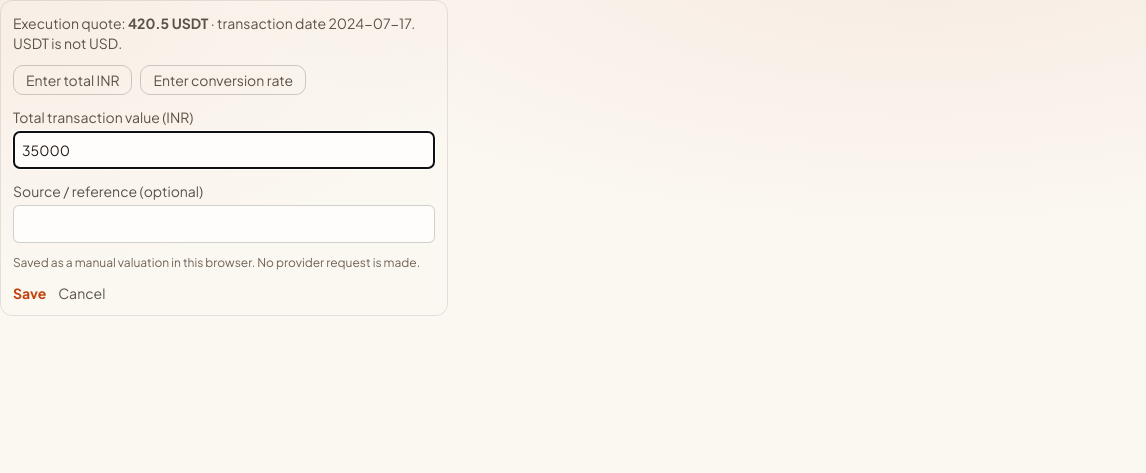
Scenario: rejects zero, negative, blank, infinite rates and impossible dates; preserves an existing INR total until valid save
Click the button "Enter conversion rate" at (223, 80), box [140,65,306,95]
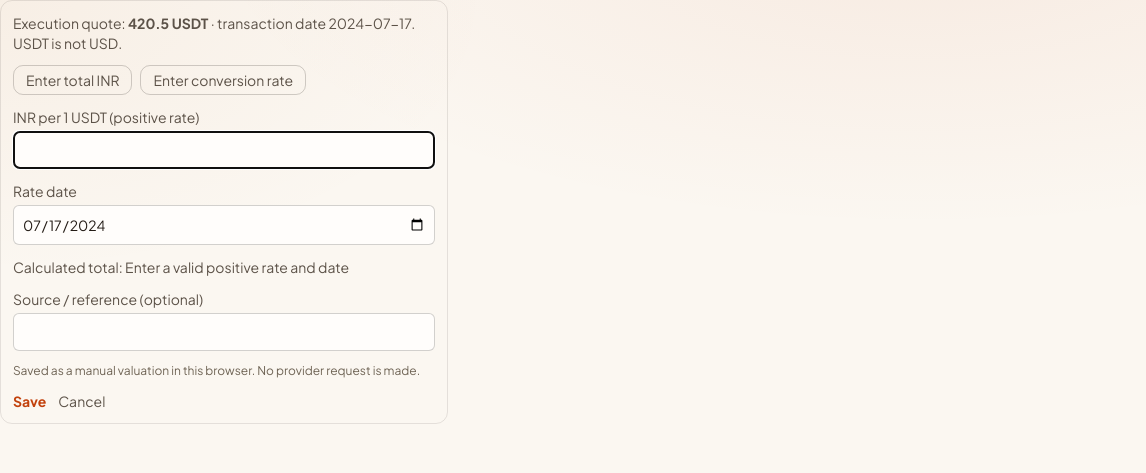
Type "0" into the field named "Conversion rate INR per USDT" at (224, 150), box [13,131,435,169]
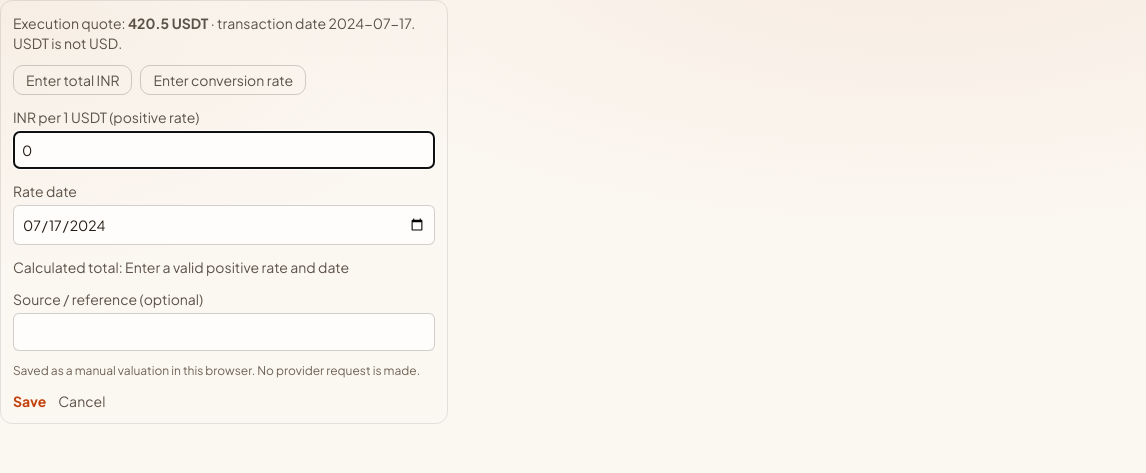
Click the button "Save" at (30, 401), box [13,391,46,411]
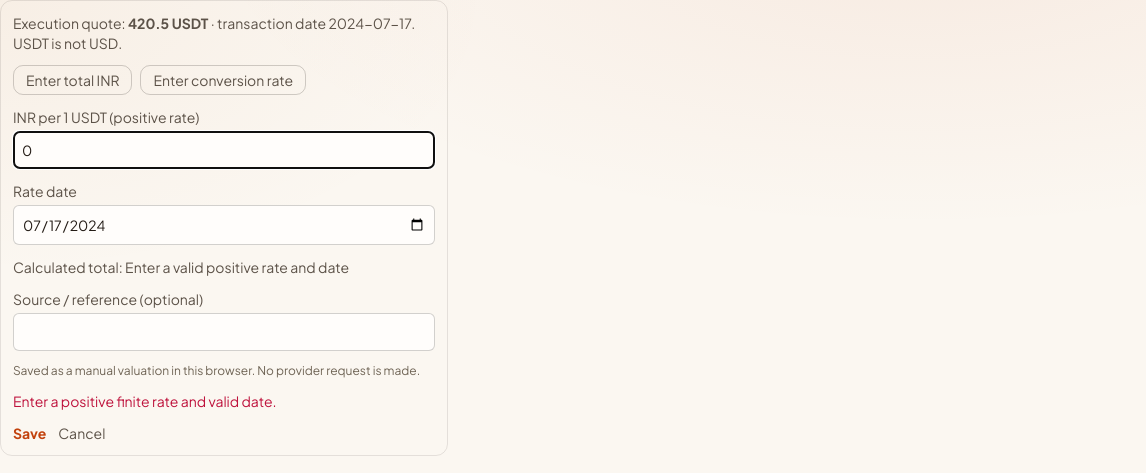
Now the message "Enter a positive finite rate and valid date." is shown, box [13,392,276,410]
